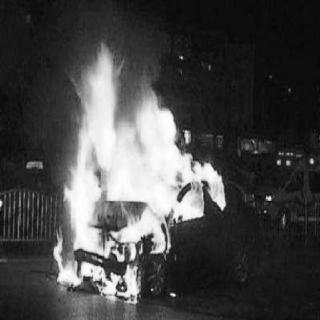Fire: (49, 35, 230, 302)
